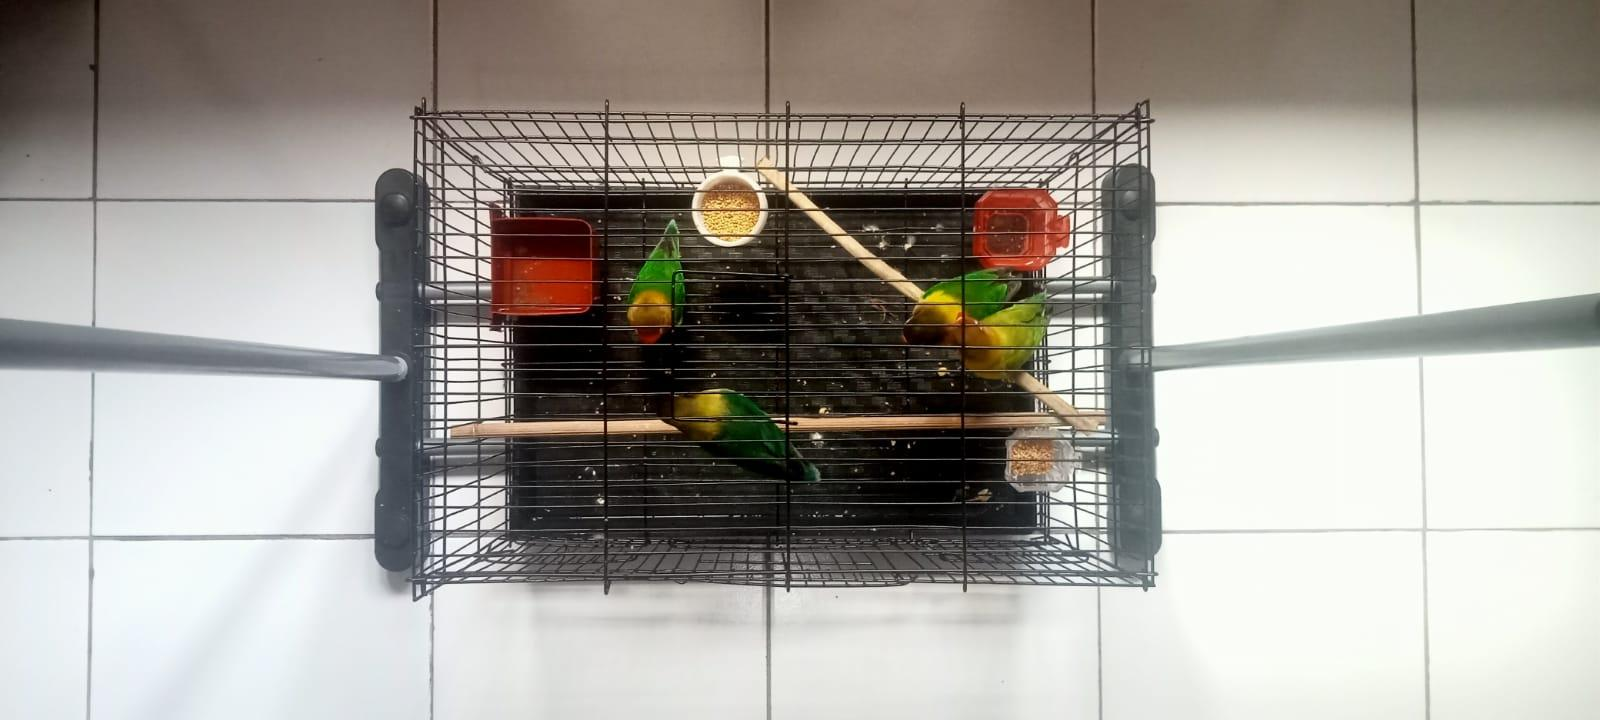LoveBird: (659, 390, 820, 483), (899, 265, 1022, 348), (956, 294, 1051, 379), (627, 220, 688, 346)
